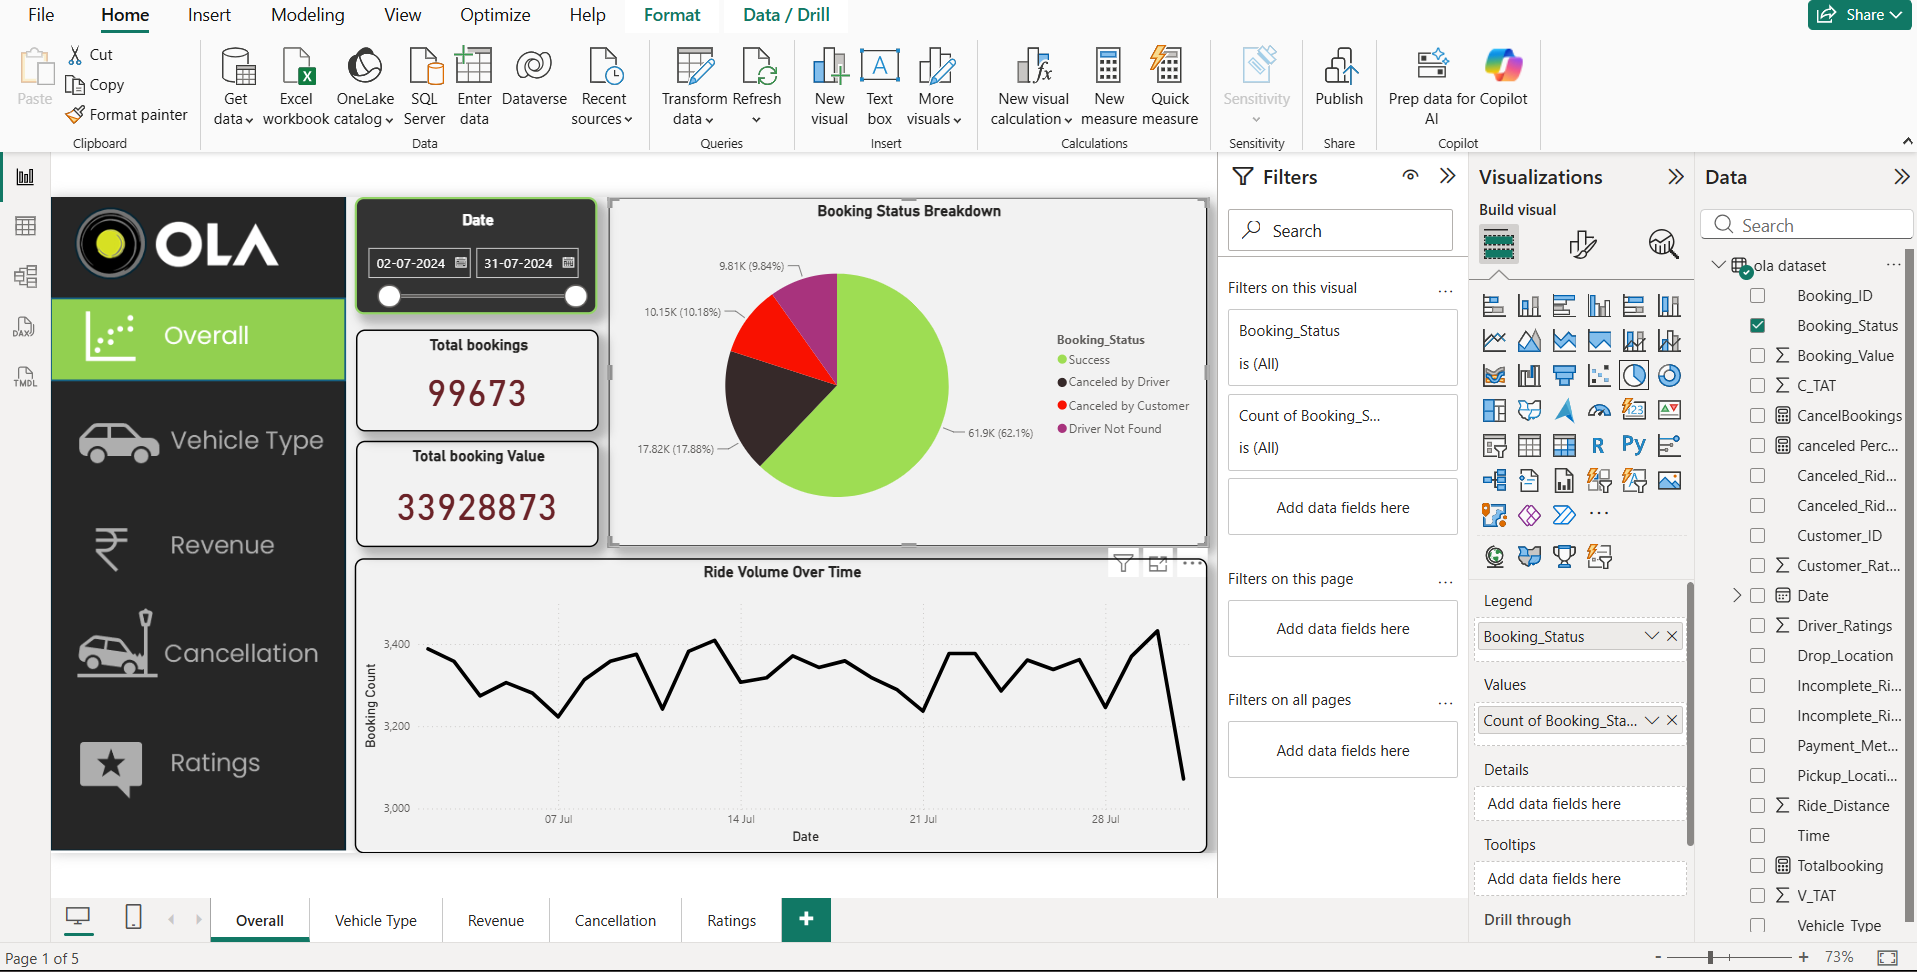

What the dashboard file says about the page in this screenshot:
{"tool":"powerbi","page":{"name":"Overall","canvas":[1280,720],"ordinal":0},"visuals":[{"type":"actionButton","box":[0,222,325.7,91.7],"z":0},{"type":"actionButton","box":[0,341.4,325.7,85.7],"z":1},{"type":"actionButton","box":[0,446.4,325.7,85.7],"z":2},{"type":"actionButton","box":[0,580.3,325.7,85.7],"z":3},{"type":"pieChart","title":"Booking Status Breakdown","fields":{"Category":["ola dataset.Booking_Status"],"Y":["CountNonNull(ola dataset.Booking_Status)"]},"box":[612.5,0,657.5,383.8],"z":4},{"type":"lineChart","title":"Ride Volume Over Time","fields":{"Category":["ola dataset.Date"],"Y":["CountNonNull(ola dataset.Booking_ID)"]},"box":[333.8,396.2,936.2,323.8],"z":5},{"type":"slicer","title":"Date","fields":{"Values":["ola dataset.Date"]},"box":[333.8,0,266.2,128.8],"z":6},{"type":"card","title":"Total bookings","fields":{"Values":["CountNonNull(ola dataset.Booking_ID)"]},"box":[334.2,144.8,266.6,112.2],"z":9},{"type":"card","title":"Total booking Value","fields":{"Values":["Sum(ola dataset.Booking_Value)"]},"box":[334.2,267.8,266.6,117],"z":10}]}

Visuals, with their boxes on the page's 1280x720 design canvas (x1, y1, x2, y2). These are canvas units, not pixel positions in the 1917x972 screenshot, which may show the page scaled, cropped or inside an application window:
actionButton: box=[0, 222, 326, 314]
actionButton: box=[0, 341, 326, 427]
actionButton: box=[0, 446, 326, 532]
actionButton: box=[0, 580, 326, 666]
"Booking Status Breakdown" pieChart: box=[612, 0, 1270, 384]
"Ride Volume Over Time" lineChart: box=[334, 396, 1270, 720]
"Date" slicer: box=[334, 0, 600, 129]
"Total bookings" card: box=[334, 145, 601, 257]
"Total booking Value" card: box=[334, 268, 601, 385]
